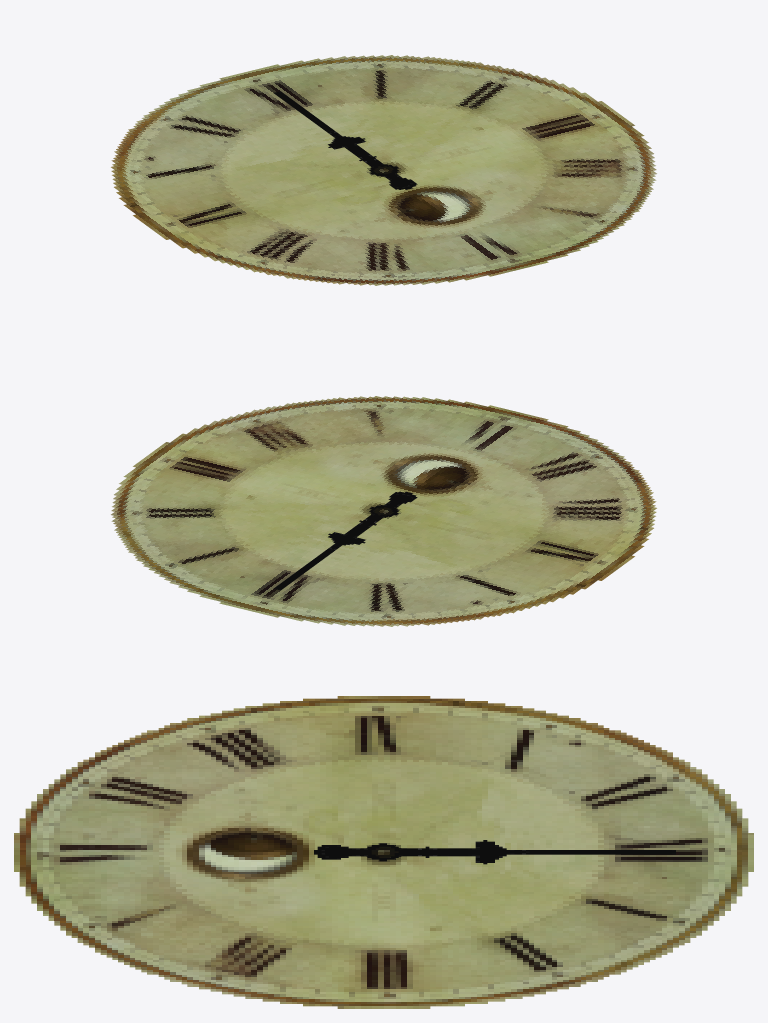
Rendered from clock.glb.
The picture shows the model from 3 angles, top to bottom: view 1: azimuth 30°, elevation 25°; view 2: azimuth 150°, elevation 25°; view 3: azimuth 270°, elevation 25°; orthographic projection. The views are drawn at different scales.
Parts seen in each view (by area): view 1: face, hour hand, Plane; view 2: face, hour hand, Plane; view 3: face, hour hand, Plane.
Boxes of the visible parts, left/top/right/bottom form: face: left=111, top=55, right=656, bottom=285; hour hand: left=328, top=131, right=414, bottom=187; Plane: left=274, top=91, right=417, bottom=189; face: left=111, top=396, right=656, bottom=626; hour hand: left=328, top=493, right=414, bottom=550; Plane: left=274, top=491, right=417, bottom=590; face: left=14, top=696, right=753, bottom=1008; hour hand: left=321, top=840, right=529, bottom=864; Plane: left=314, top=845, right=675, bottom=859.
Bounding box in the file's own units: 3 × 0.001 × 3.
Materials: 3 (3 with a texture image).
